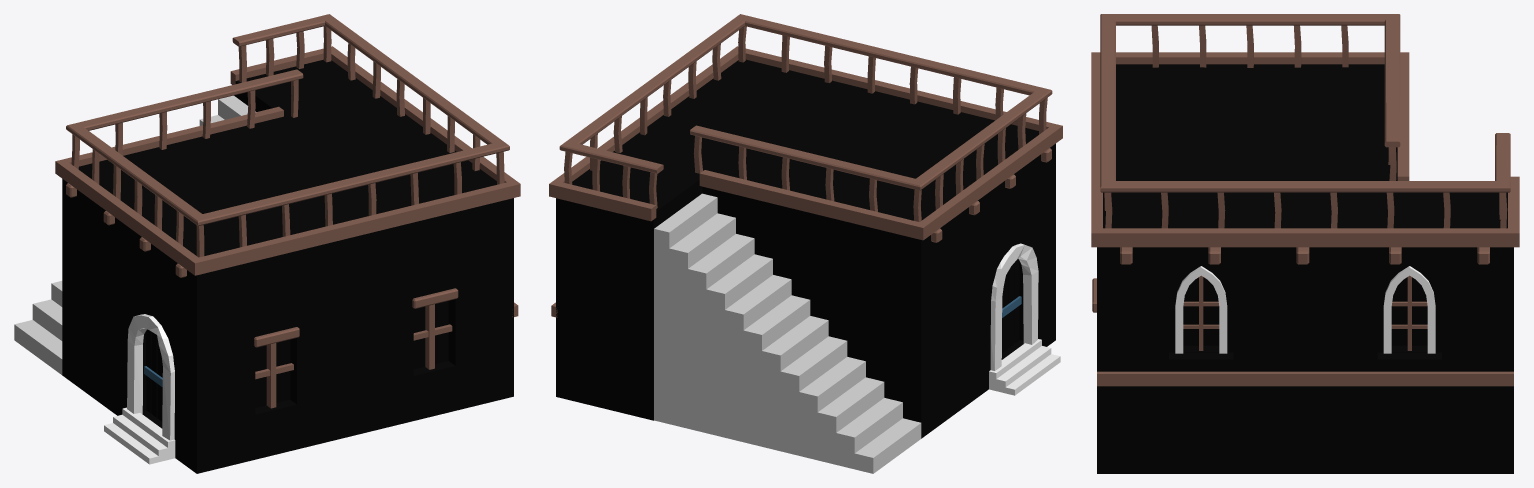
Rendered from CivilianHouse04.fbx.
3 renders of one model, left to right at view 1: azimuth 30°, elevation 25°; view 2: azimuth 150°, elevation 25°; view 3: azimuth 270°, elevation 25°, orthographic. The views are drawn at different scales.
Parts seen in each view (by area): view 1: civilian_house_31_d_LOD0; view 2: civilian_house_31_d_LOD0; view 3: civilian_house_31_d_LOD0.
Part boxes in pixels (left/top/right/bottom): civilian_house_31_d_LOD0: left=14, top=14, right=520, bottom=473; civilian_house_31_d_LOD0: left=549, top=14, right=1062, bottom=473; civilian_house_31_d_LOD0: left=1091, top=14, right=1519, bottom=473.
Size of what is drawn, in the model's own units: 899 by 605 by 822.
